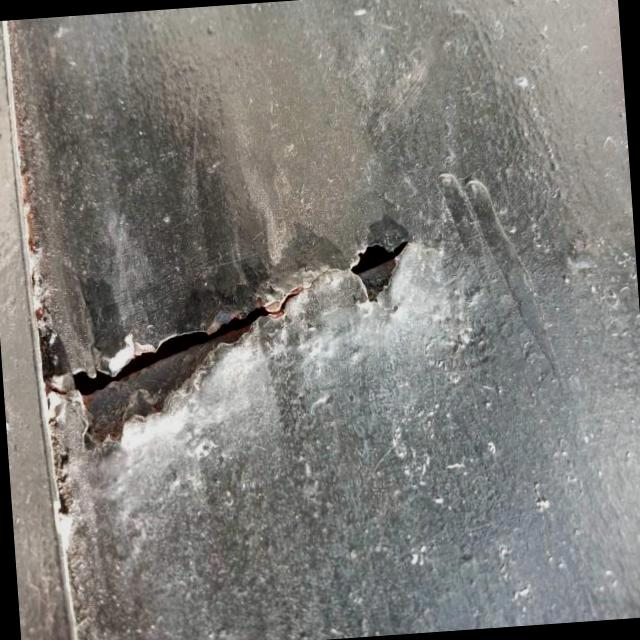defect: (63, 230, 415, 456)
